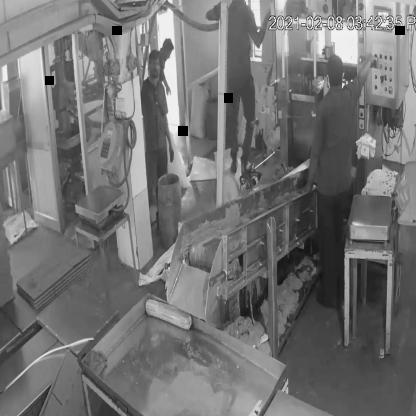no_glove: (305, 136, 322, 210), (246, 10, 275, 53), (160, 115, 177, 168), (356, 53, 378, 92)
